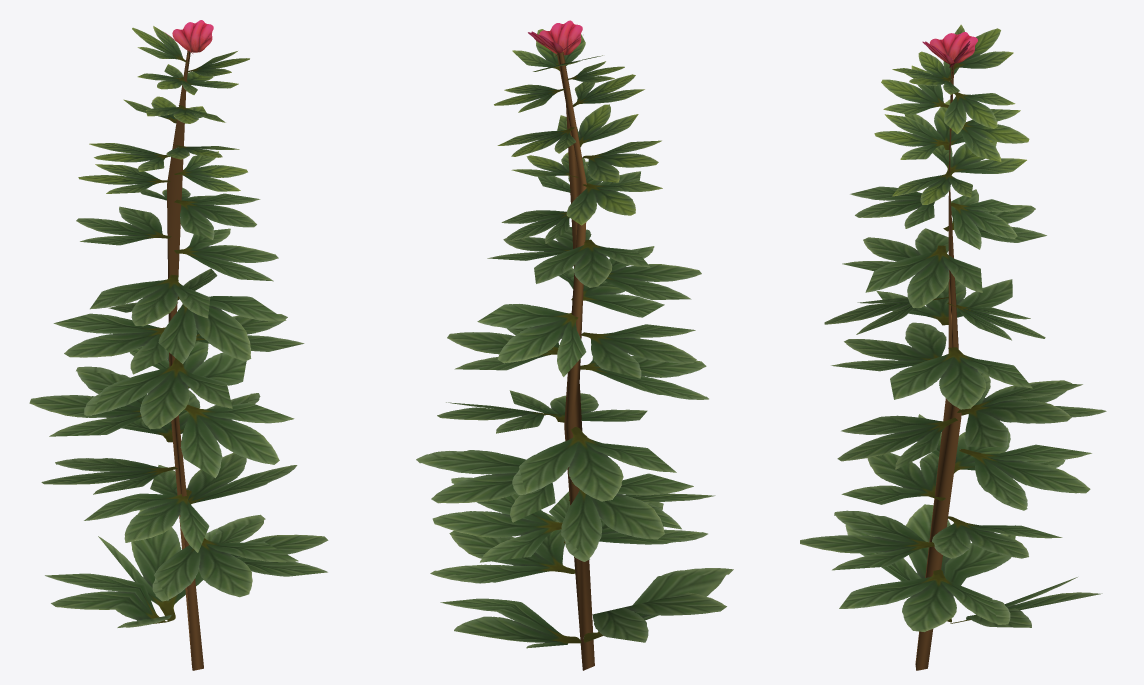
File: flower_LOD1.fbx
The picture shows the model from 3 angles, left to right: view 1: azimuth 30°, elevation 25°; view 2: azimuth 150°, elevation 25°; view 3: azimuth 270°, elevation 25°; orthographic projection. The views are drawn at different scales.
Parts seen in each view (by area): view 1: GPlant2LOD1; view 2: GPlant2LOD1; view 3: GPlant2LOD1.
Part boxes in pixels (x1,y1,x2,y2): GPlant2LOD1: [29, 20, 328, 670]; GPlant2LOD1: [416, 20, 733, 670]; GPlant2LOD1: [800, 24, 1106, 670].
Bounding box in the file's own units: 1.62 × 3.44 × 1.61.
